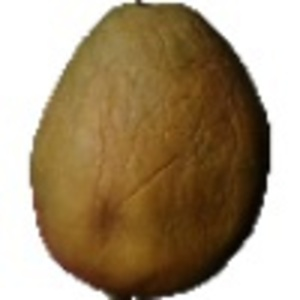mamão: (20, 3, 288, 294)
